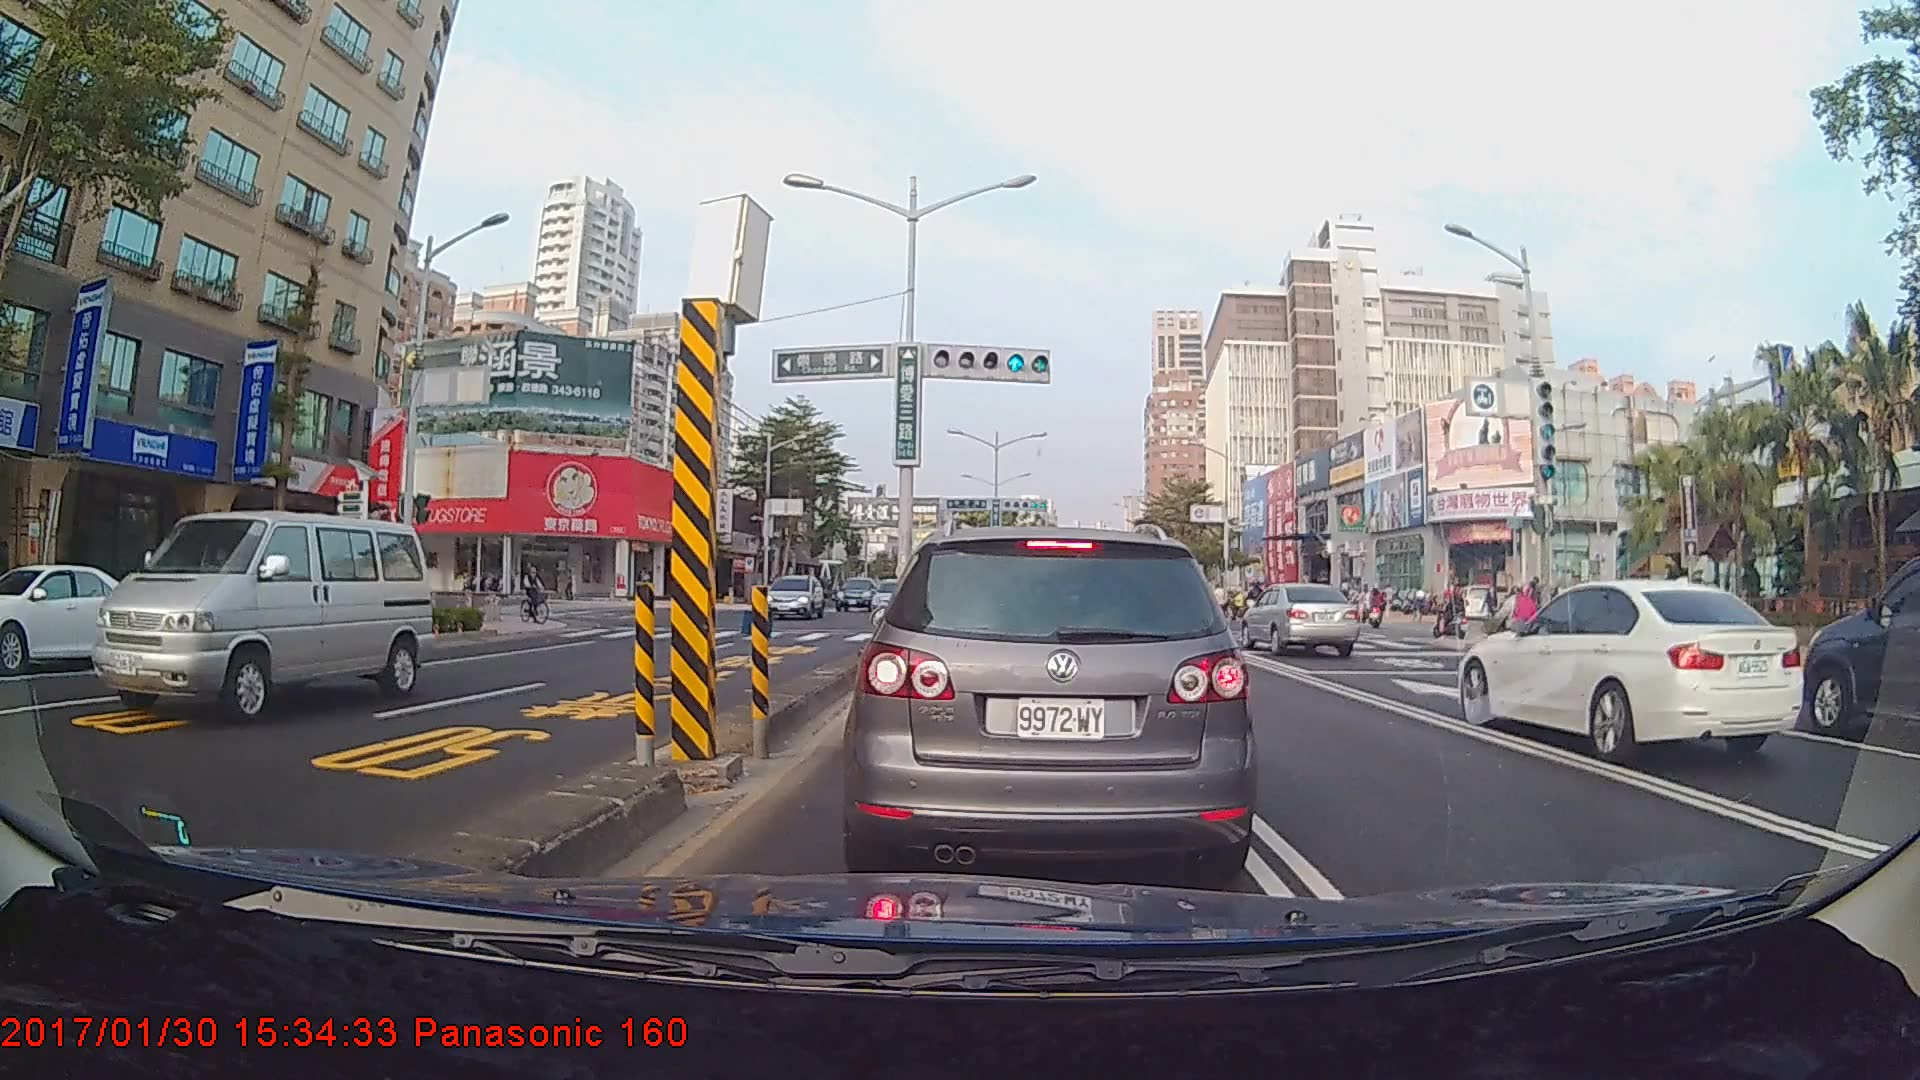rider: (518, 559, 561, 629), (1436, 582, 1473, 646)
vehicle: (858, 521, 1249, 874), (89, 509, 433, 725), (1452, 576, 1802, 761), (1796, 552, 1919, 741), (0, 561, 157, 671), (1238, 580, 1362, 657), (759, 574, 823, 620)
